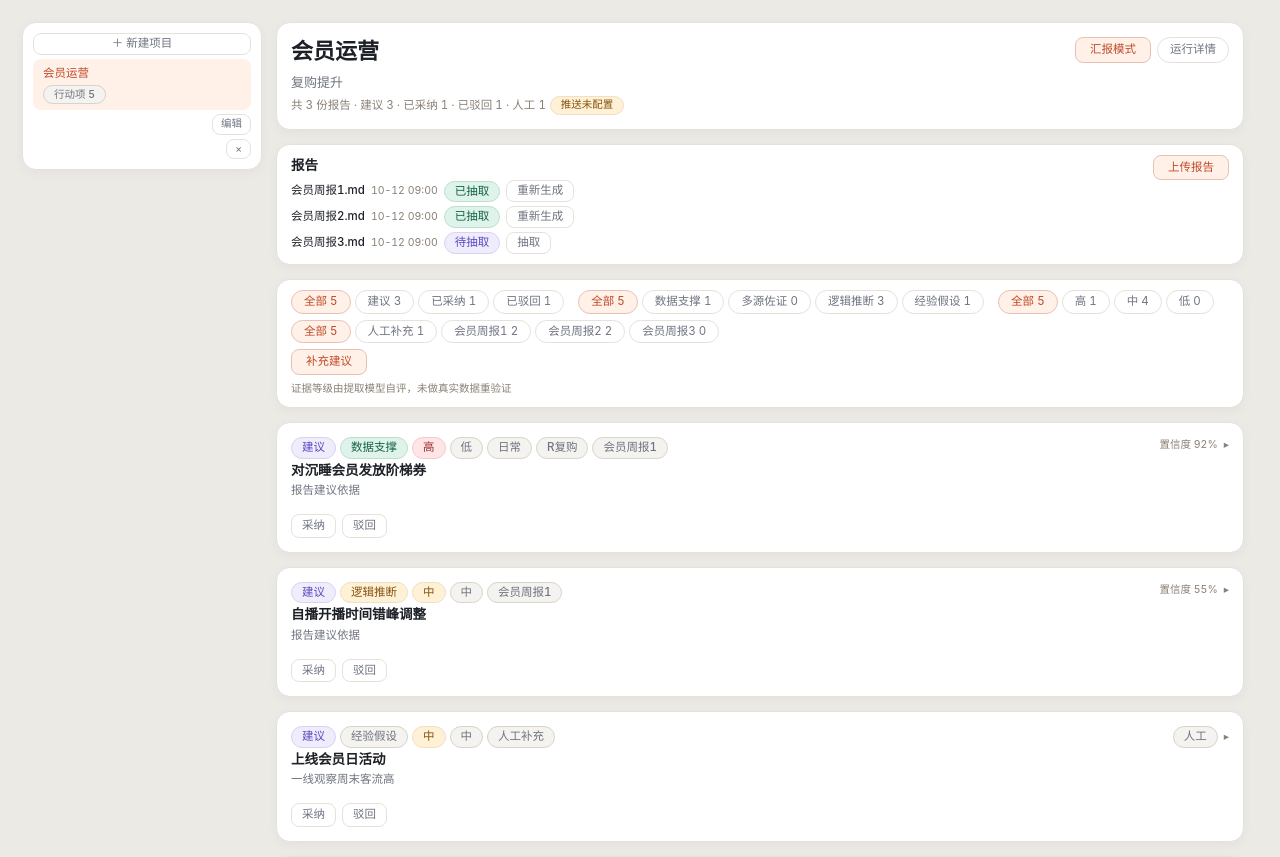
Test: 驳回弹窗（S11）：打开聚焦 textarea、校验逐字错误、确认落库、焦点回驳回钮
Click the 1st button "驳回" at (364, 526), box [342,514,387,538]
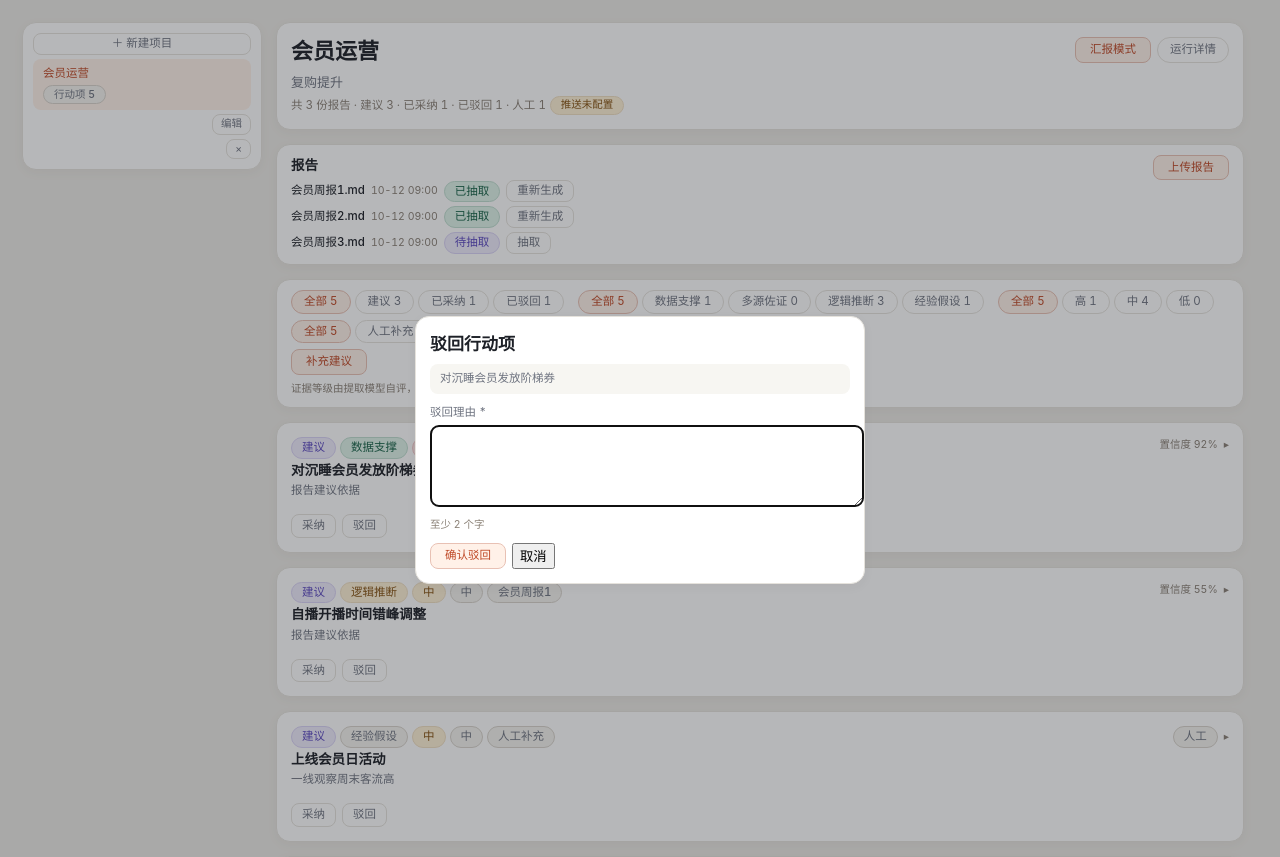
Result: the text "至少 2 个字" is shown at [430,518,484,530]
Click the button "确认驳回" at (468, 556), box [430,543,506,569]
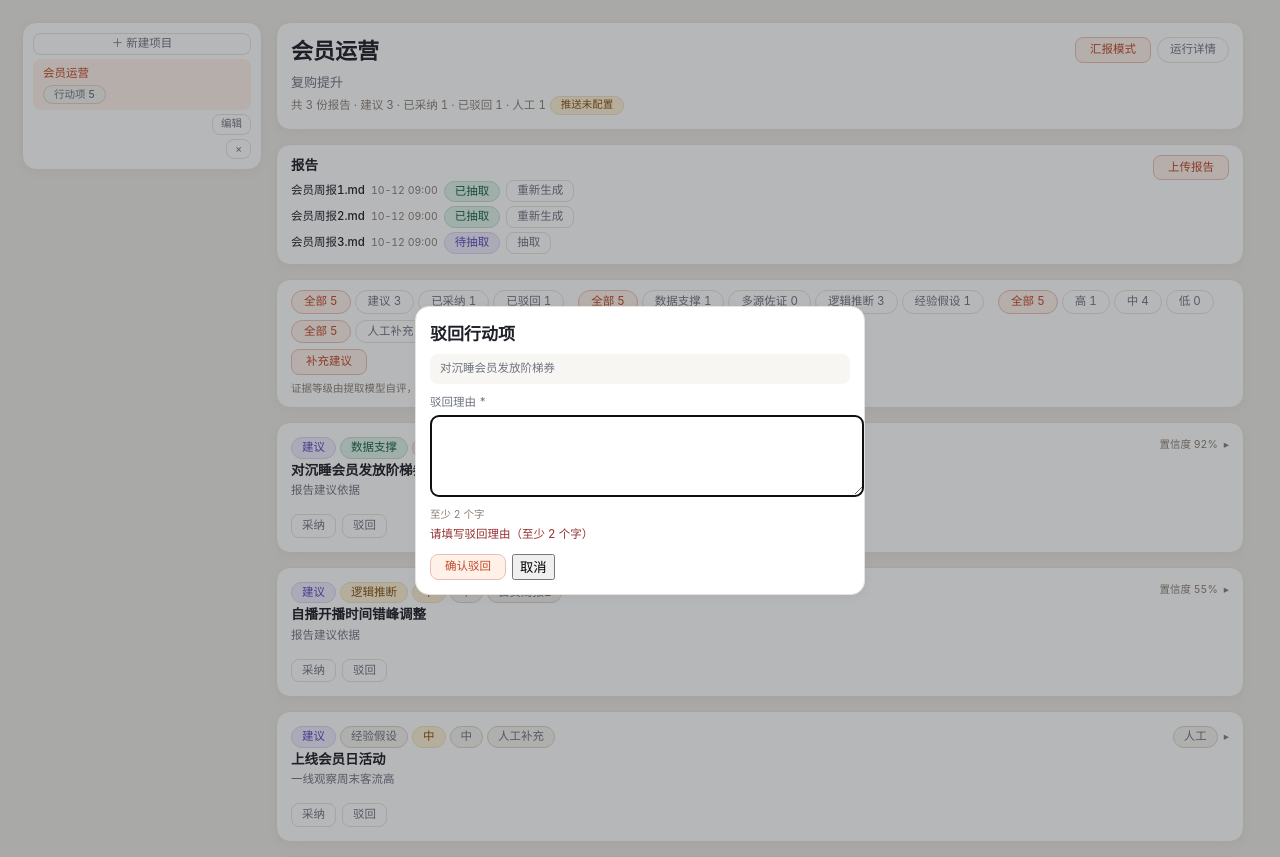
Result: the message reads "请填写驳回理由（至少 2 个字）" at [430,527,593,541]
Type "与大盘趋势不符" into the text box labelled "驳回理由 *" at (647, 456), box [430,414,864,496]
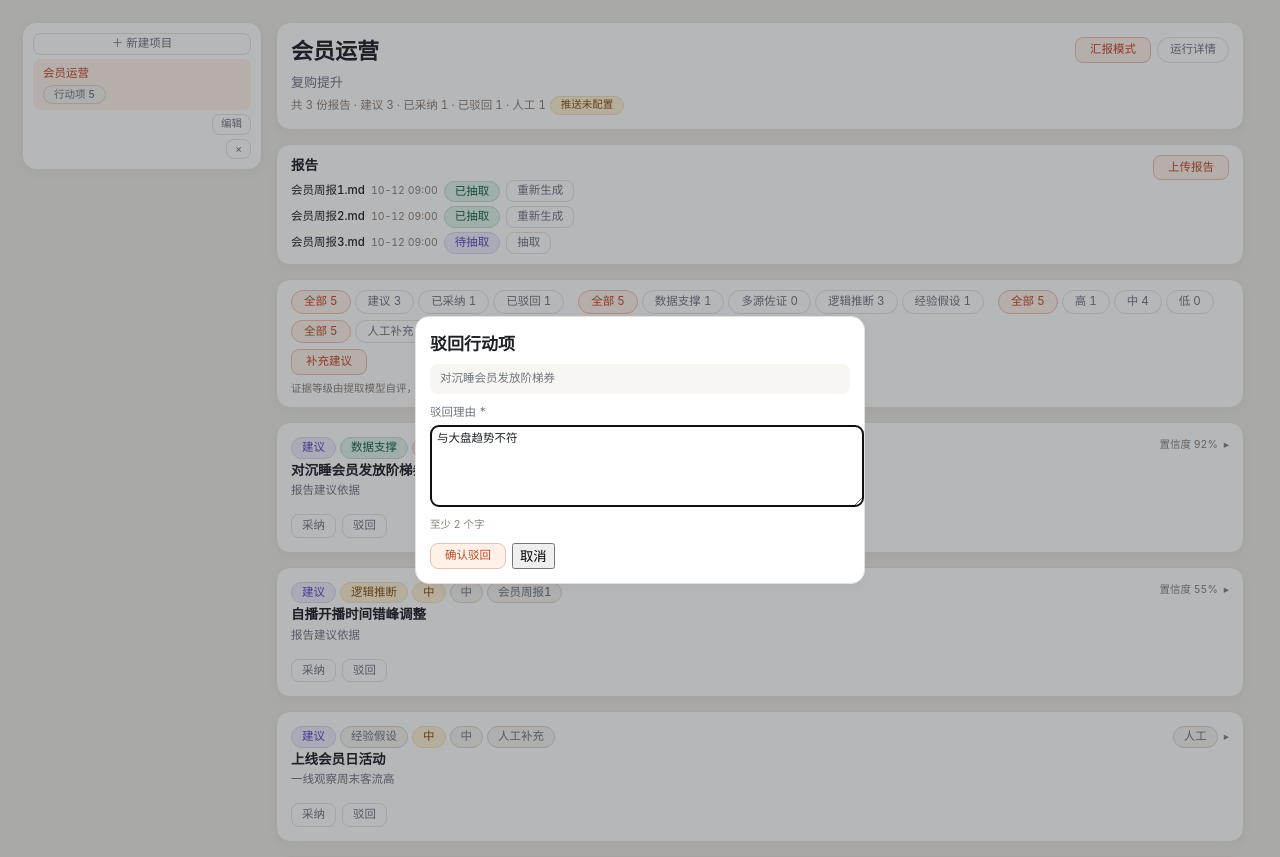
Click the button "确认驳回" at (468, 556), box [430,543,506,569]
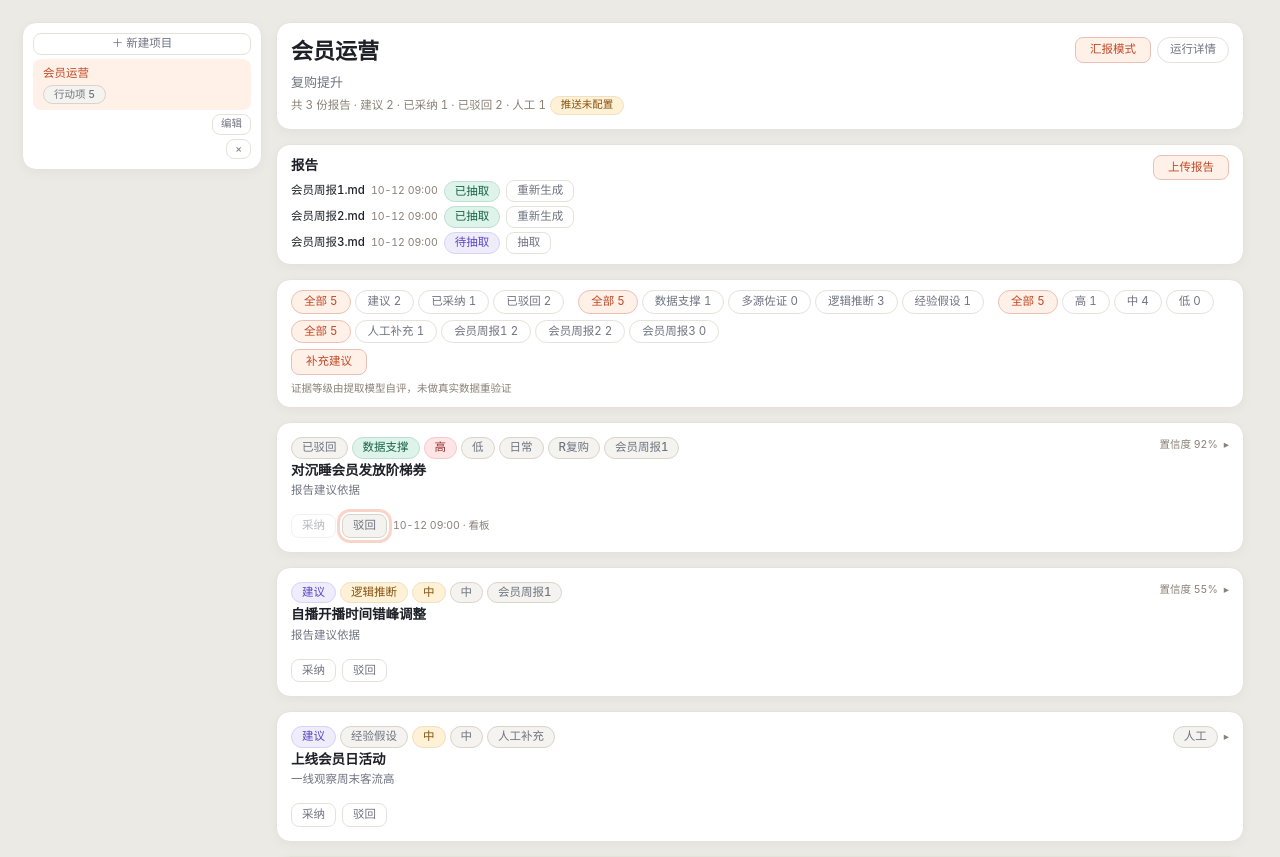
Result: the dialog is gone
Result: the 1st text "已驳回" is shown at [291,438,348,459]
